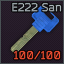Health Resort east wing room 222 key: (0, 0, 64, 64)
